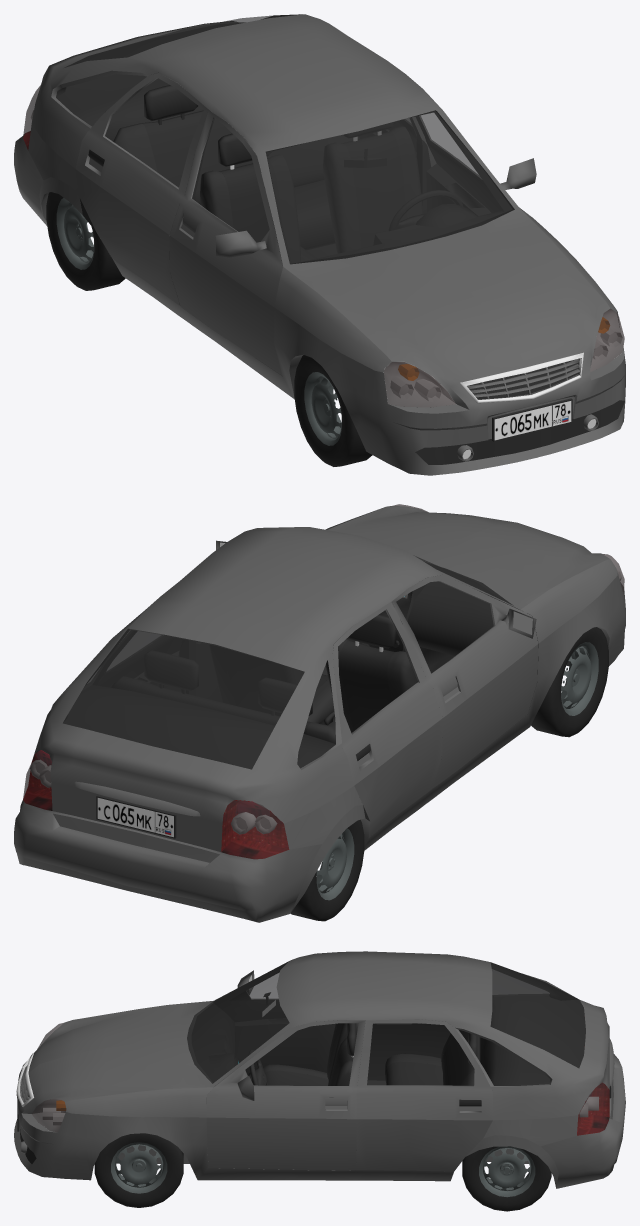
File: npc_priora.glb
3 views of the same model, one above another, from view 1: azimuth 30°, elevation 25°; view 2: azimuth 150°, elevation 25°; view 3: azimuth 270°, elevation 25° (orthographic). The views are drawn at different scales.
Visible parts, largest first — view 1: object 1, Cube.006, object 19, object 13, Cube.008, object 11, object 14, Cylinder.016, Cylinder.005, object 8, Cube.015, Cylinder.011 (+1 smaller); view 2: object 1, object 19, object 13, object 14, Cylinder.016, Cube.008, object 6, object 11, Cylinder.005, Cube.016, Cylinder.017; view 3: object 1, object 19, object 13, Cube.006, Cylinder.016, Cylinder.005, Cube.008, object 14, object 6, object 11, object 8.
Boxes of the visible parts, left/top/right/bottom form: object 1: left=14, top=14, right=625, bottom=475; Cube.006: left=266, top=111, right=512, bottom=263; object 19: left=169, top=95, right=536, bottom=375; object 13: left=75, top=73, right=416, bottom=305; Cube.008: left=113, top=85, right=359, bottom=249; object 11: left=323, top=122, right=422, bottom=253; object 14: left=200, top=133, right=300, bottom=263; Cylinder.016: left=294, top=355, right=372, bottom=466; Cylinder.005: left=46, top=192, right=125, bottom=290; object 8: left=384, top=308, right=624, bottom=407; Cube.015: left=492, top=398, right=572, bottom=441; Cylinder.011: left=390, top=317, right=622, bottom=401; object 1: left=14, top=506, right=625, bottom=922; object 19: left=196, top=540, right=538, bottom=787; object 13: left=97, top=601, right=442, bottom=837; object 14: left=326, top=614, right=416, bottom=732; Cylinder.016: left=531, top=627, right=608, bottom=737; Cube.008: left=111, top=650, right=335, bottom=743; object 6: left=23, top=750, right=288, bottom=859; object 11: left=209, top=645, right=334, bottom=723; Cylinder.005: left=290, top=819, right=364, bottom=921; Cube.016: left=96, top=795, right=176, bottom=838; Cylinder.017: left=39, top=765, right=255, bottom=834; object 1: left=14, top=951, right=625, bottom=1188; object 19: left=206, top=970, right=365, bottom=1170; object 13: left=356, top=1019, right=492, bottom=1171; Cube.006: left=191, top=963, right=289, bottom=1082; Cylinder.016: left=94, top=1133, right=183, bottom=1207; Cylinder.005: left=462, top=1146, right=551, bottom=1211; Cube.008: left=385, top=1030, right=480, bottom=1085; object 14: left=263, top=1023, right=358, bottom=1085; object 6: left=577, top=1083, right=609, bottom=1135; object 11: left=329, top=1023, right=356, bottom=1085; object 8: left=32, top=1023, right=66, bottom=1132.
Bounding box in the file's own units: 1.95 × 1.47 × 4.35.
12 materials, 1 textured.
